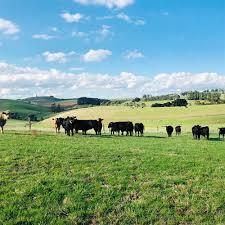cow: (0, 110, 15, 134), (74, 119, 96, 134), (107, 121, 124, 137), (132, 123, 147, 137), (53, 118, 64, 134), (192, 123, 201, 140), (202, 125, 211, 142), (66, 116, 74, 134), (95, 118, 103, 135), (167, 124, 173, 137), (219, 128, 225, 140), (175, 125, 182, 135)
